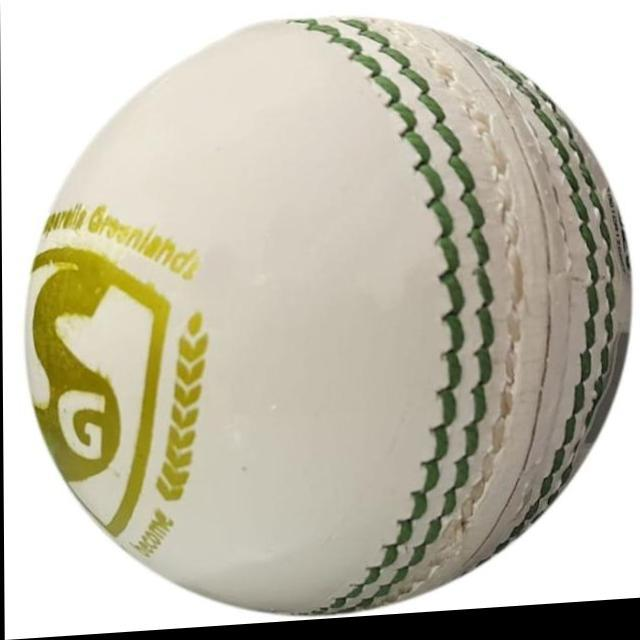cricket ball: (24, 17, 633, 622)
